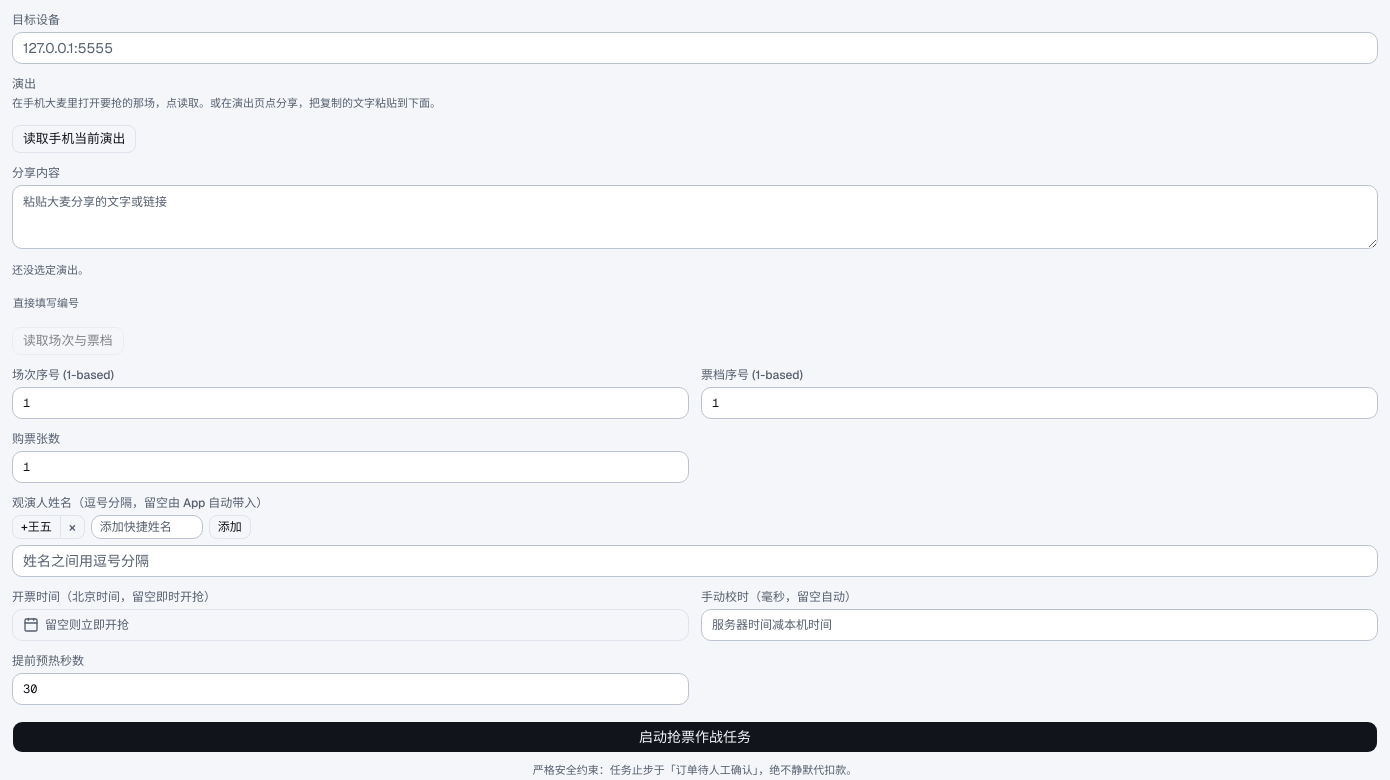
Test: TaskForm 观演人快捷项 › 含逗号的姓名不提交，已有名单保留
This screenshot has width=1390, height=780.
In the field labelled "添加快捷姓名": {"x": 147, "y": 527} 91,515 -> 203,539, type "杨安琪,张三"
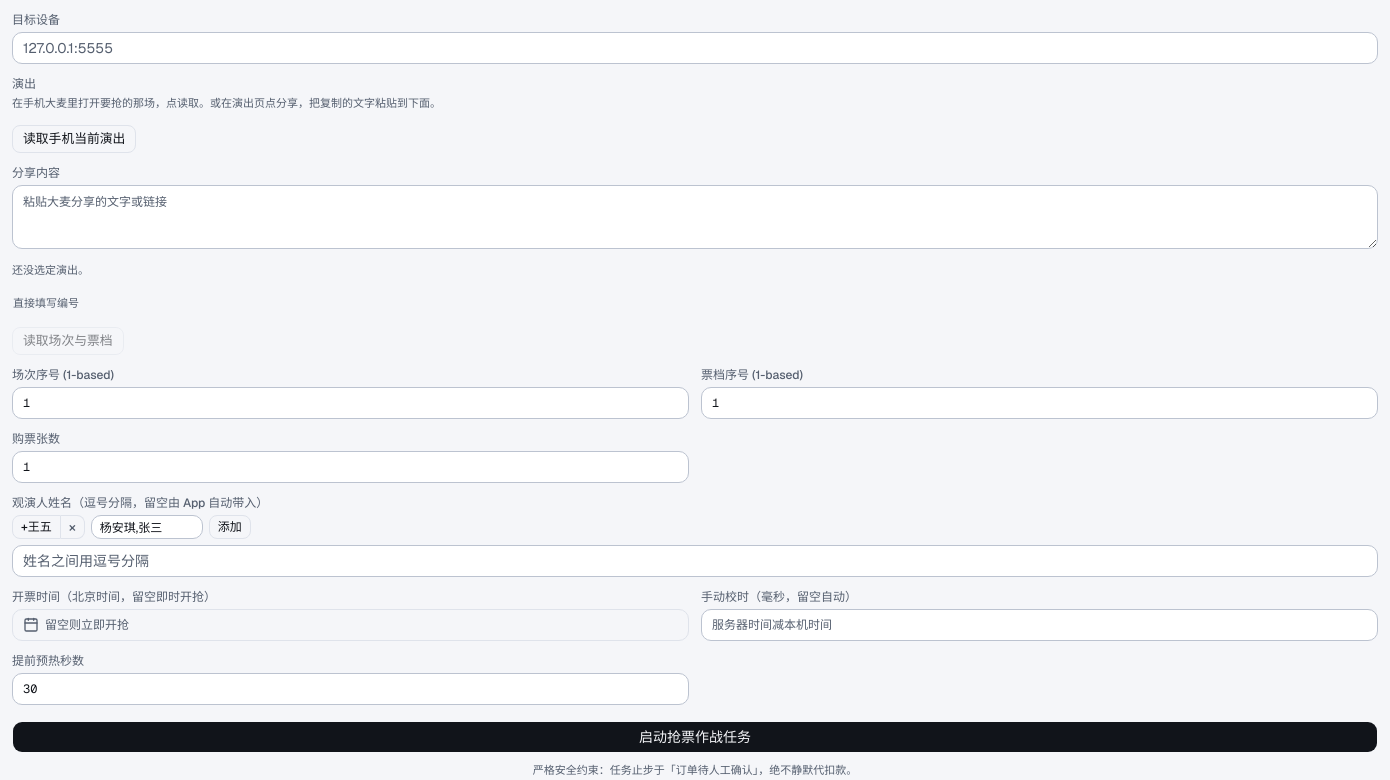
Click the button "添加": {"x": 230, "y": 527} 209,515 -> 251,539
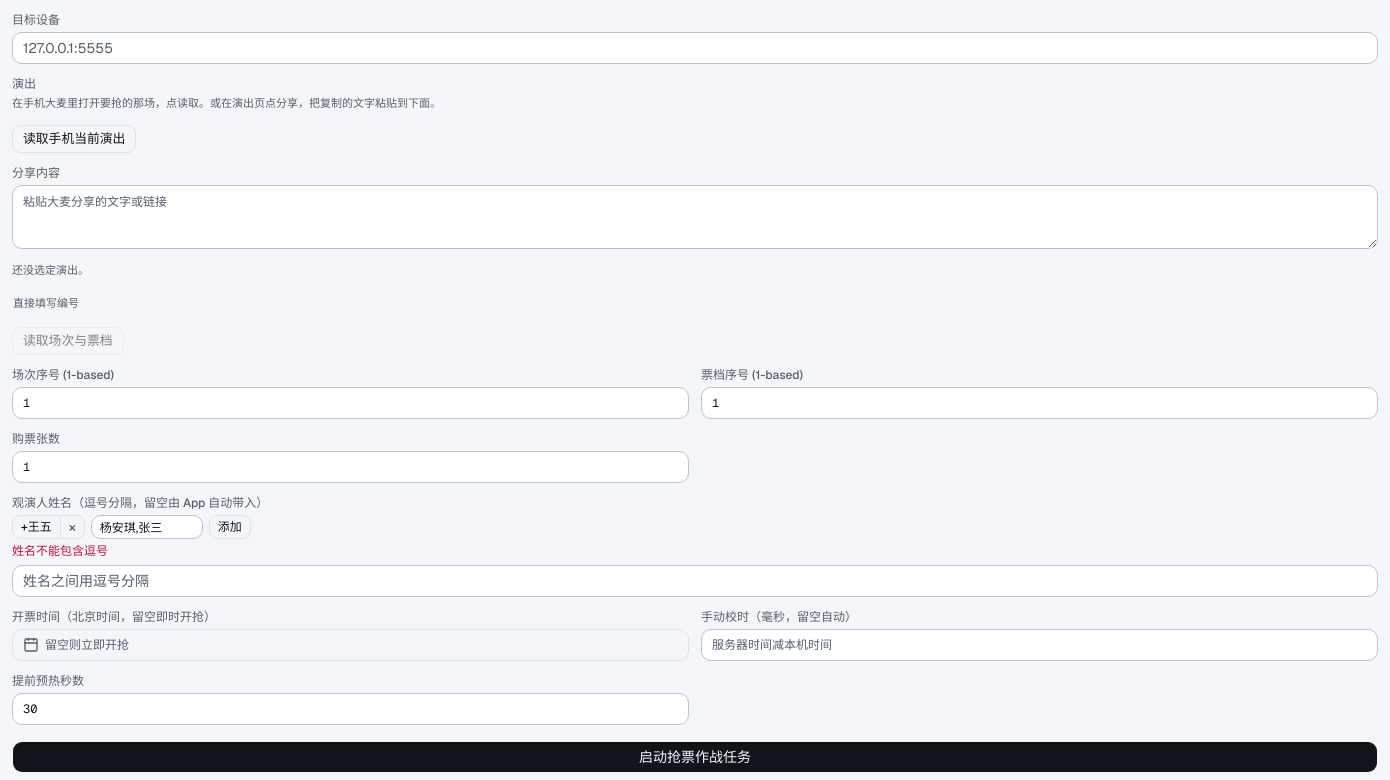
Expected: the button "+王五" is shown, 12,515 -> 61,539
Expected: the text "姓名不能包含逗号" is shown, 12,543 -> 108,559
